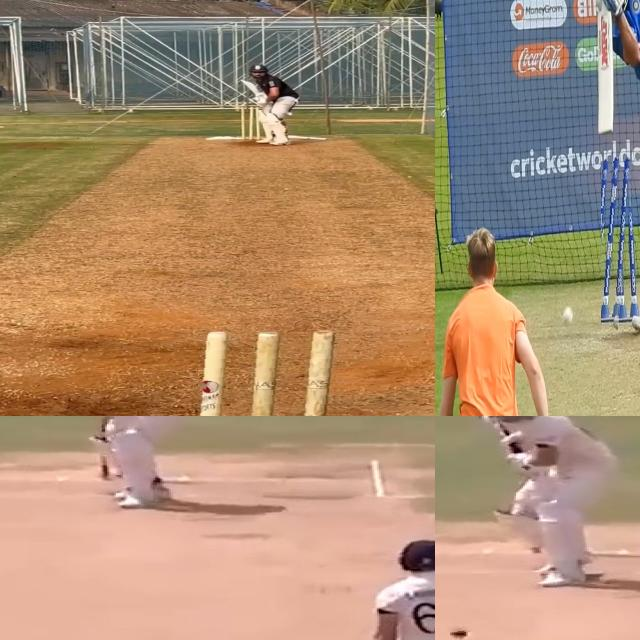Cricket ball: (561, 303, 575, 329), (446, 626, 471, 640)
Stumps: (198, 327, 347, 416), (602, 156, 638, 330), (239, 105, 264, 141)
